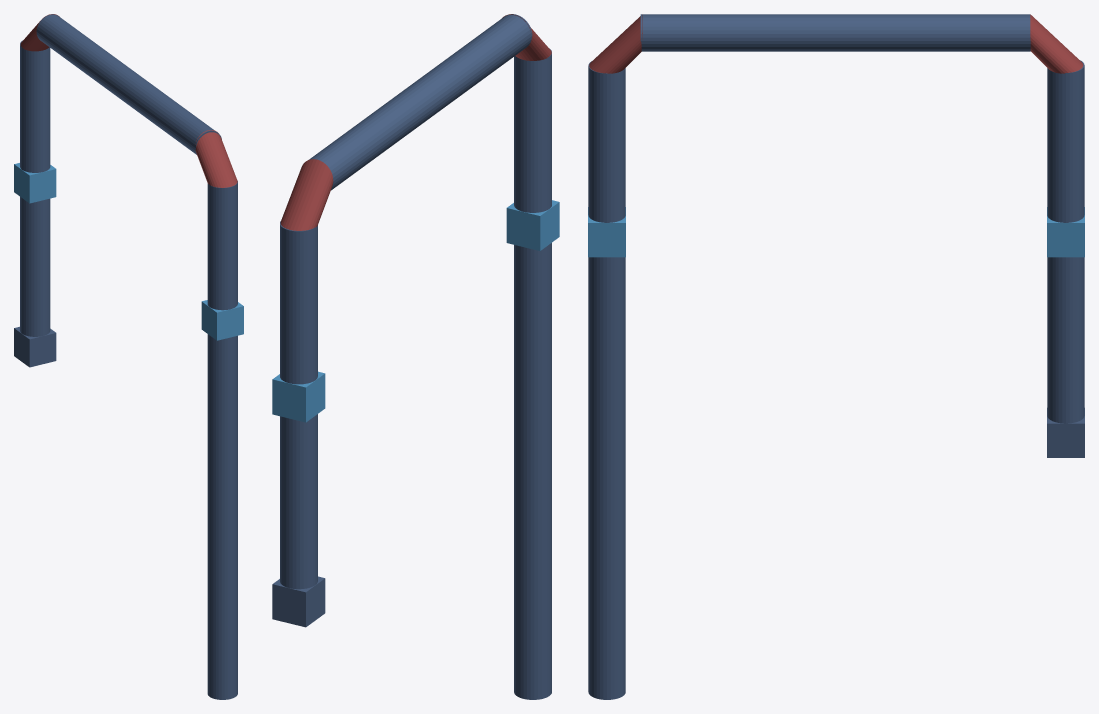
File: obstacle2.glb
3 renders of one model, left to right at view 1: azimuth 30°, elevation 25°; view 2: azimuth 150°, elevation 25°; view 3: azimuth 270°, elevation 25°, orthographic. The views are drawn at different scales.
Parts seen in each view (by area): view 1: Cilindro.002; view 2: Cilindro.002; view 3: Cilindro.002.
Boxes of the visible parts, x1,y1,x2,y2 form: Cilindro.002: (14, 14, 243, 699); Cilindro.002: (272, 14, 559, 699); Cilindro.002: (588, 14, 1084, 699).
Size of the model in its own units: 0.34 by 6.69 by 4.45.
